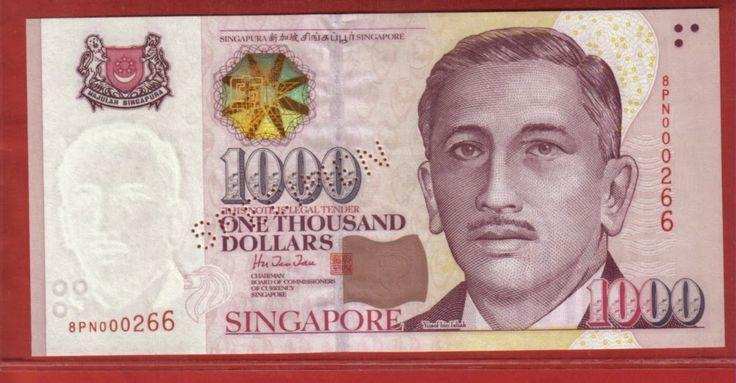1000SingaporeDollar: (35, 19, 718, 347)
